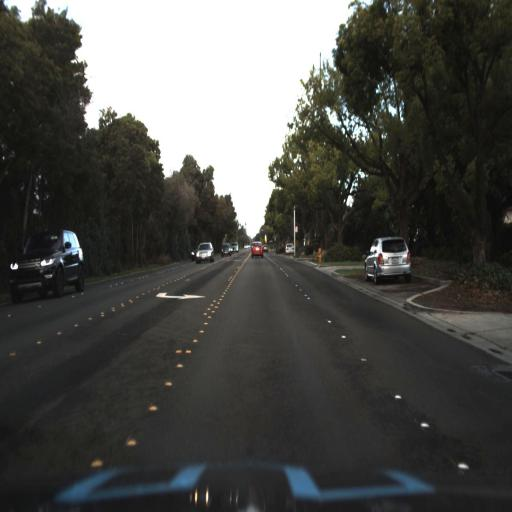car: (8, 229, 86, 304), (358, 229, 417, 295), (247, 238, 267, 266), (194, 240, 215, 264), (195, 240, 212, 264), (218, 240, 232, 260), (281, 240, 296, 258)
